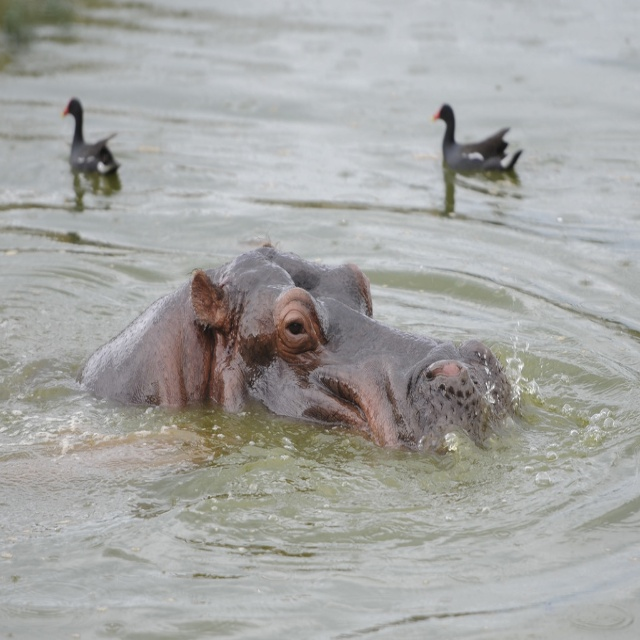Hippopotamus: (77, 234, 512, 455)
